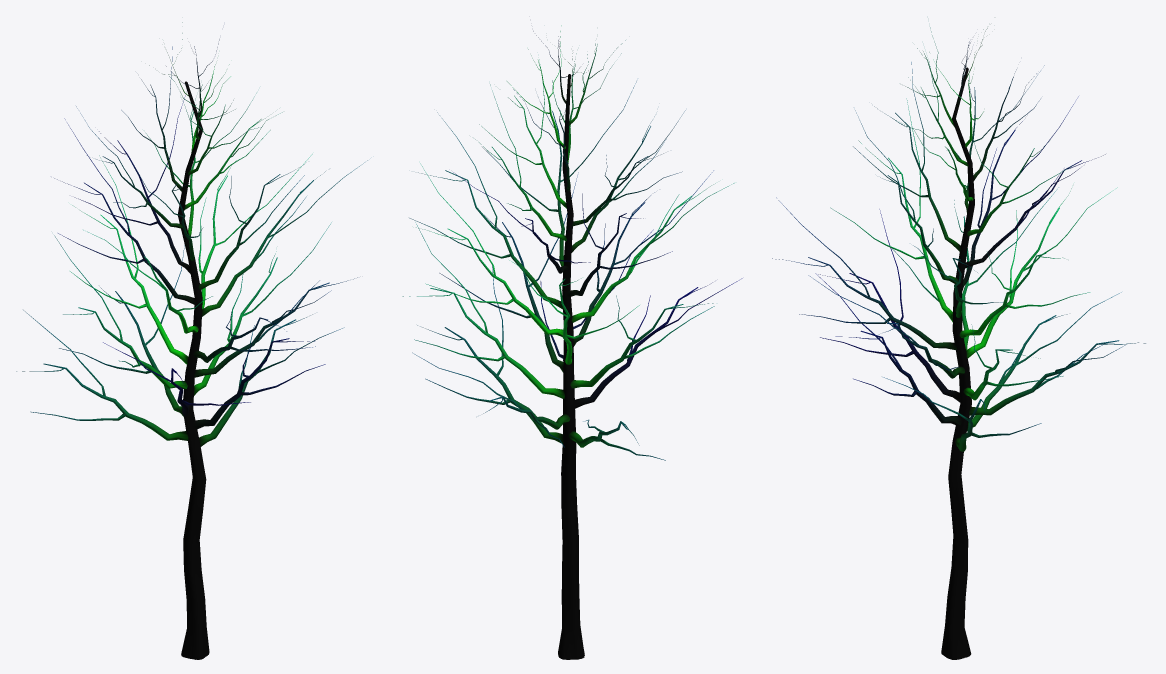
File: SM_WLTree_015.FBX
The picture shows the model from 3 angles, left to right: view 1: azimuth 30°, elevation 25°; view 2: azimuth 150°, elevation 25°; view 3: azimuth 270°, elevation 25°; orthographic projection. The views are drawn at different scales.
Visible parts, largest first — view 1: SM_WLTree_015_LOD0; view 2: SM_WLTree_015_LOD0; view 3: SM_WLTree_015_LOD0.
Part boxes in pixels (<box>): SM_WLTree_015_LOD0: <box>16,22,367,659</box>; SM_WLTree_015_LOD0: <box>402,25,742,659</box>; SM_WLTree_015_LOD0: <box>772,27,1145,659</box>.
Size of what is drawn, in the model's own units: 500 by 540 by 1004.
